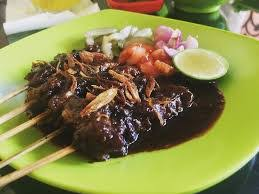sate: (18, 17, 225, 161)
